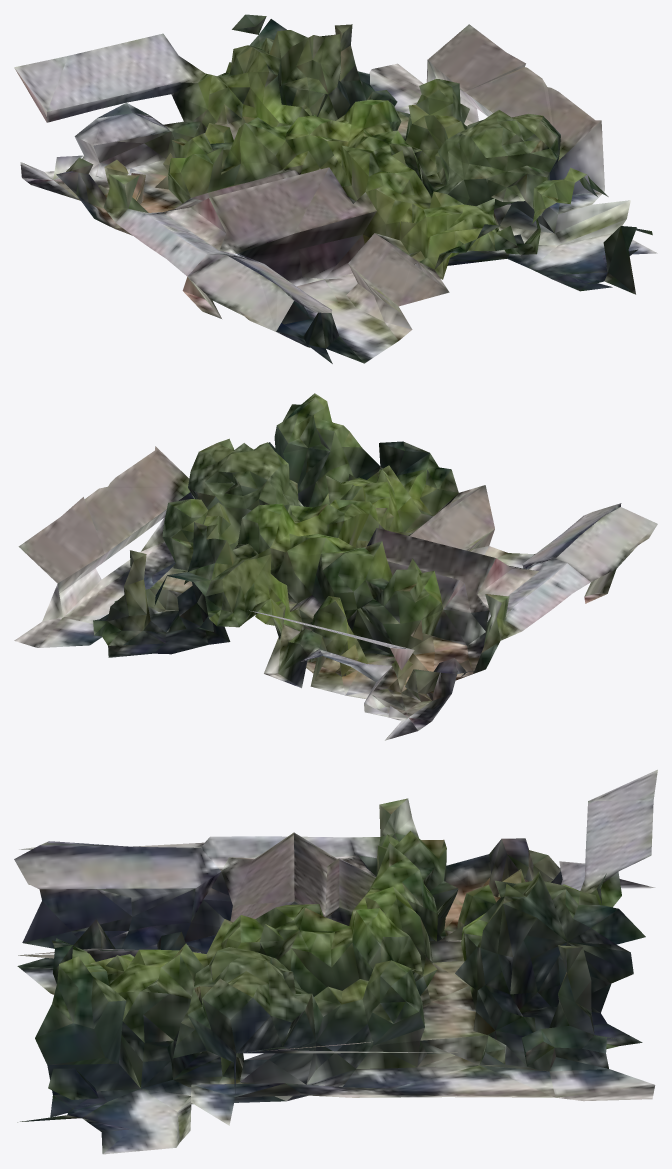
File: Tile_+002_+003_L17_00.glb
3 views of the same model, one above another, from view 1: azimuth 30°, elevation 25°; view 2: azimuth 150°, elevation 25°; view 3: azimuth 270°, elevation 25° (orthographic). The views are drawn at different scales.
Visible parts, largest first — view 1: rtc; view 2: rtc; view 3: rtc.
Part boxes in pixels (left/top/right/bottom): rtc: left=14, top=14, right=657, bottom=363; rtc: left=14, top=393, right=657, bottom=740; rtc: left=14, top=769, right=657, bottom=1154.
Size of the model in its own units: 57.72 by 17.99 by 60.85.
Materials: 1 (1 with a texture image).
